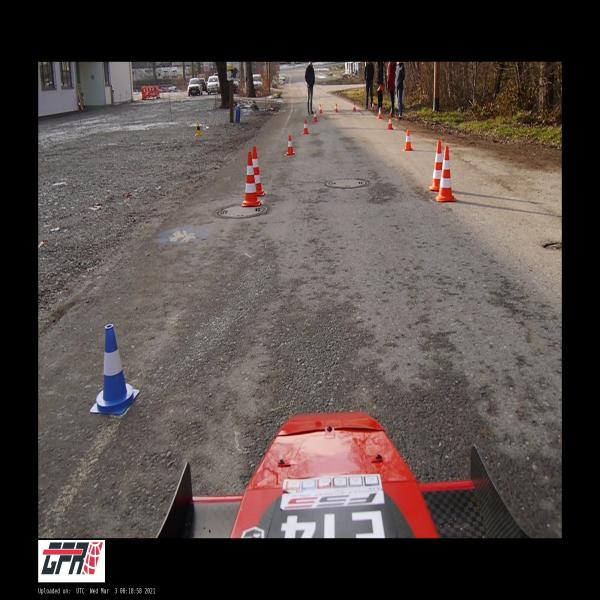blue_cone: (90, 324, 140, 415), (237, 101, 241, 110)
large_orange_cone: (435, 146, 455, 201), (242, 152, 260, 206), (429, 140, 443, 190), (253, 146, 264, 196)
orange_cone: (404, 130, 413, 151), (286, 136, 294, 154), (388, 114, 393, 130), (303, 119, 308, 134), (313, 111, 318, 121), (378, 106, 382, 118), (319, 104, 322, 114), (335, 103, 338, 113), (353, 102, 356, 112), (377, 85, 382, 90), (372, 101, 374, 110)
yellow_cone: (196, 122, 201, 136)
